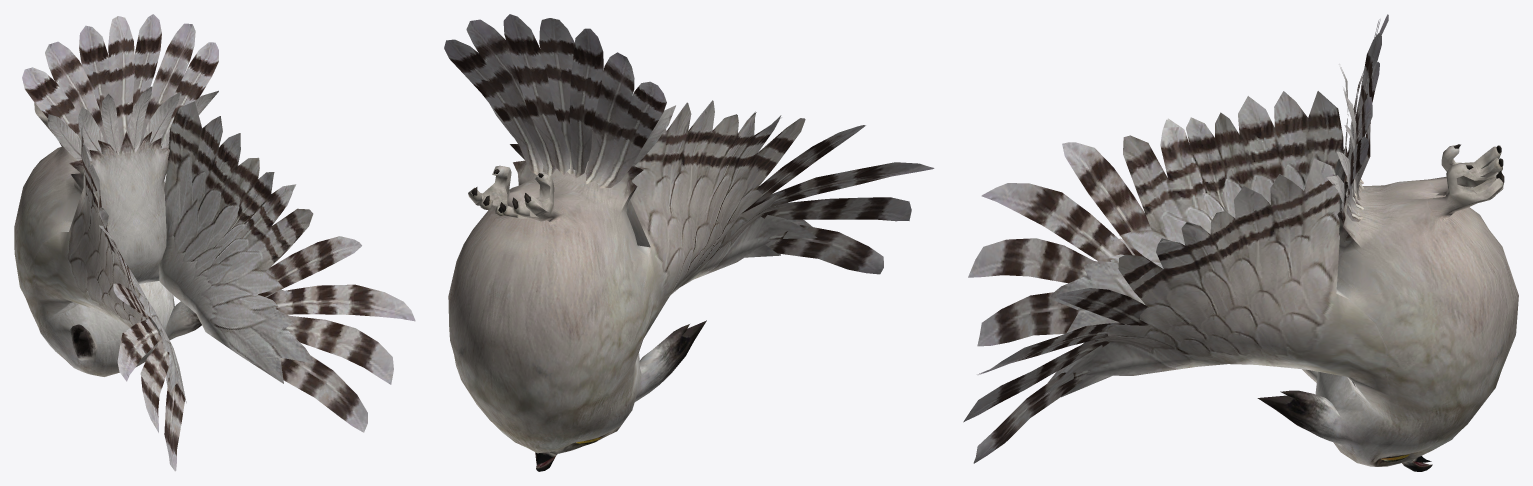
The model's file is owl.glb.
3 renders of one model, left to right at view 1: azimuth 30°, elevation 25°; view 2: azimuth 150°, elevation 25°; view 3: azimuth 270°, elevation 25°, orthographic. The views are drawn at different scales.
Visible parts, largest first — view 1: Object_69; view 2: Object_69; view 3: Object_69.
Part boxes in pixels (x1,y1,x2,y2): Object_69: [14, 14, 415, 471]; Object_69: [444, 14, 934, 471]; Object_69: [963, 14, 1518, 471].
Bounding box in the file's own units: 1.64 × 1.96 × 2.24.
Materials: 1 (1 with a texture image).
